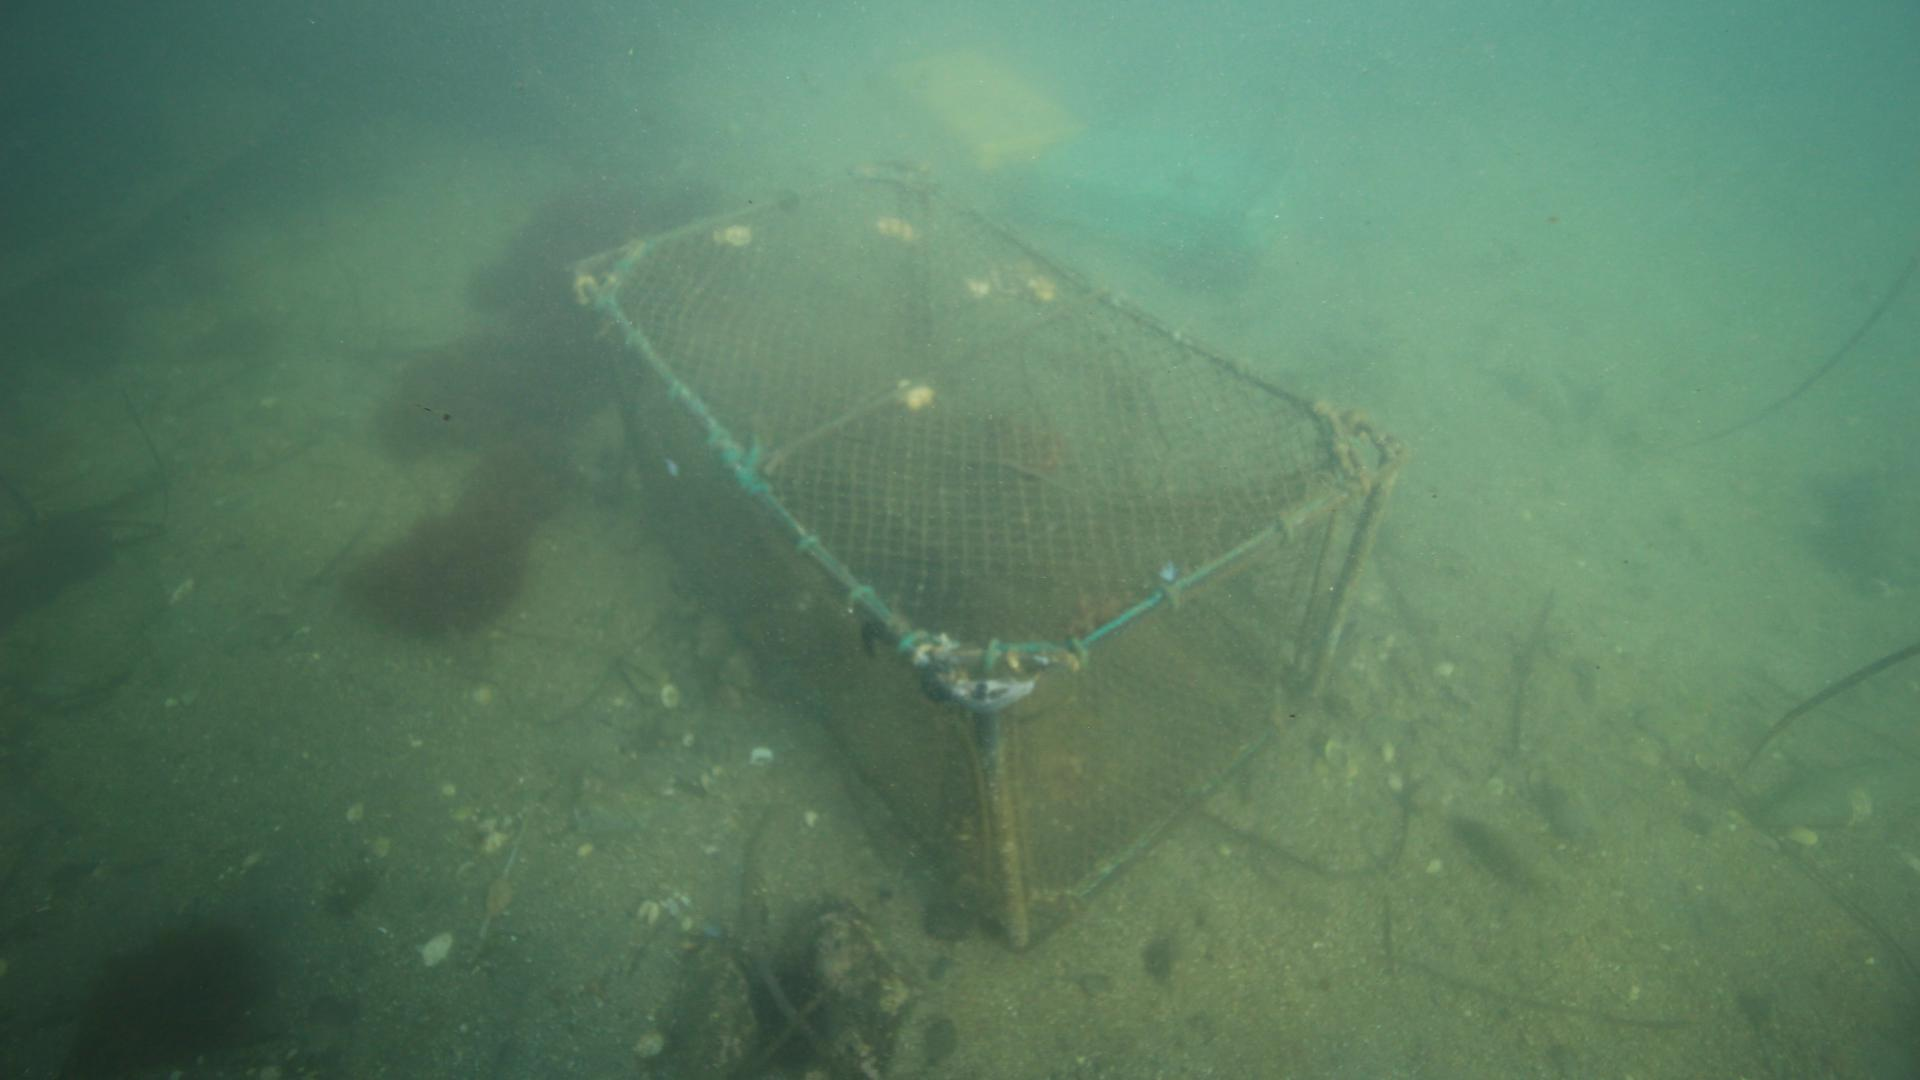rectangular fish trap: (556, 157, 1408, 951)
